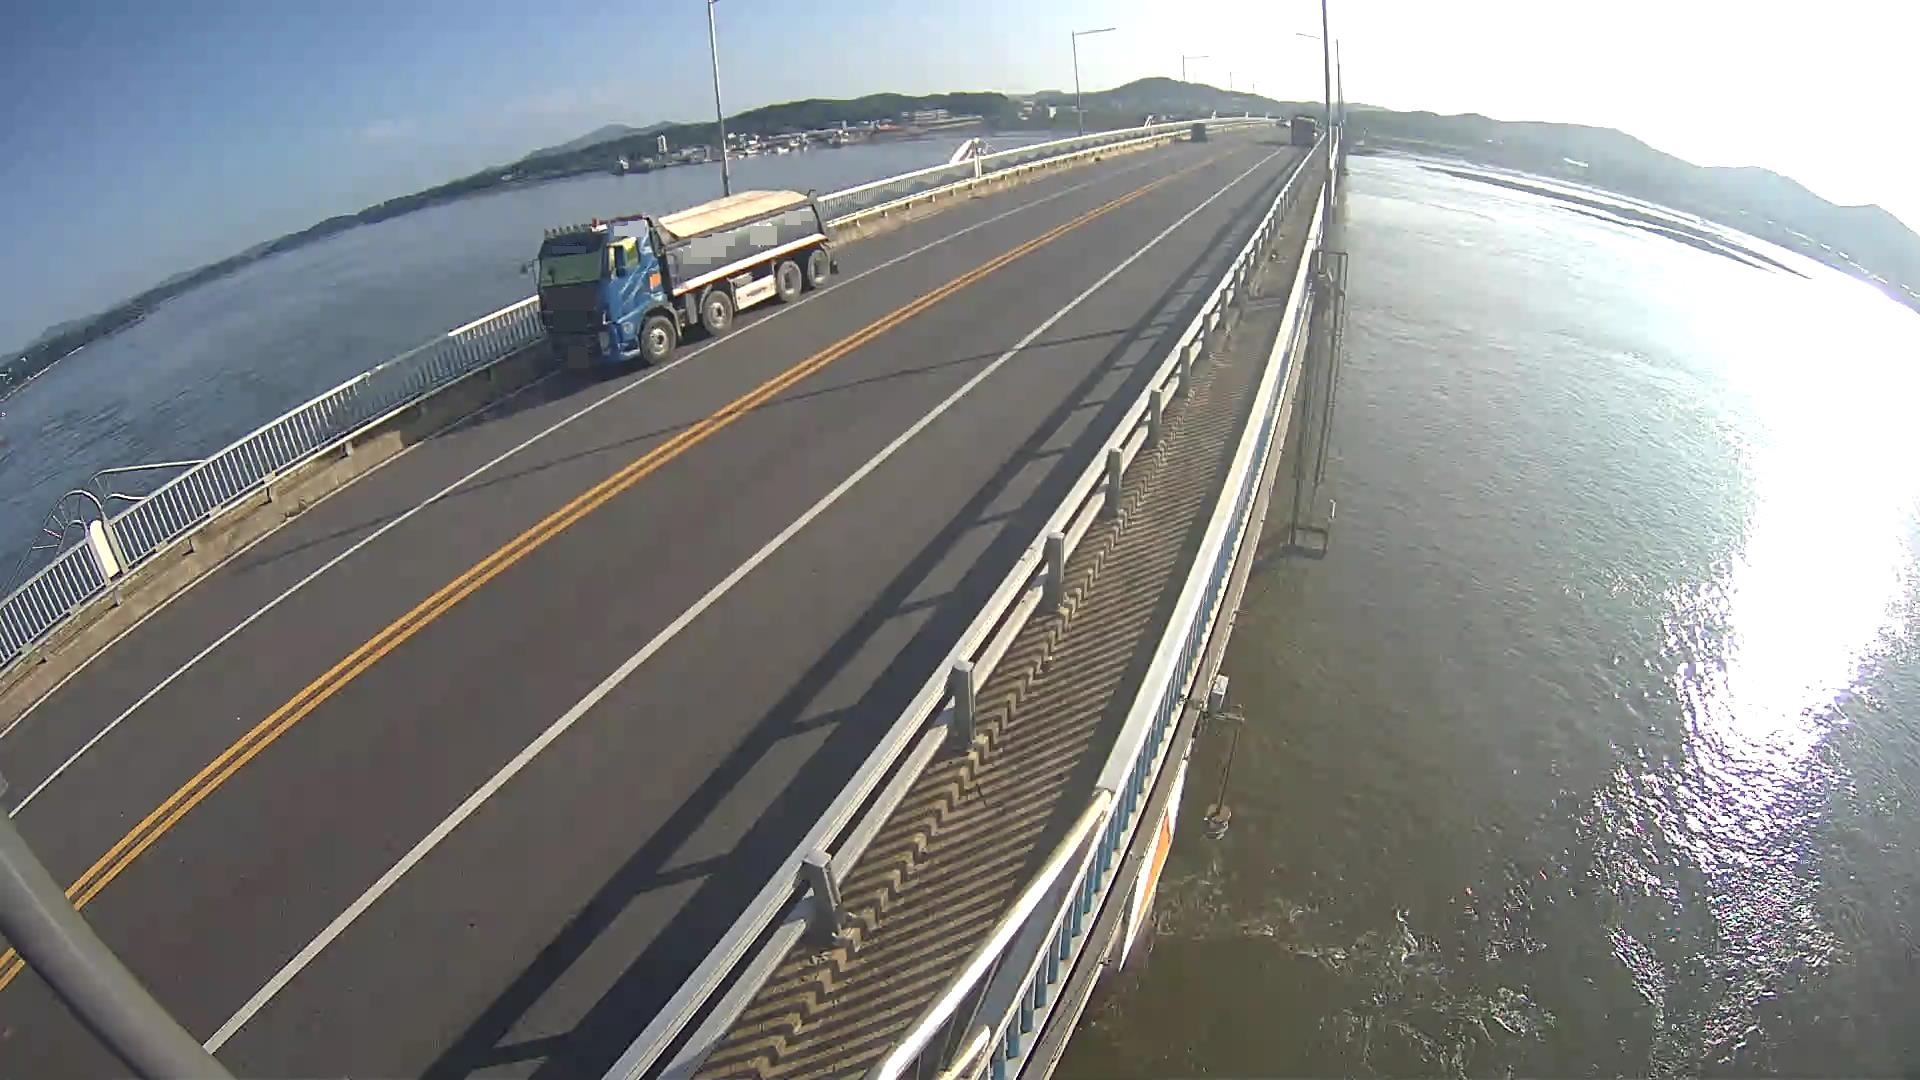정상차량: (520, 190, 839, 365)
